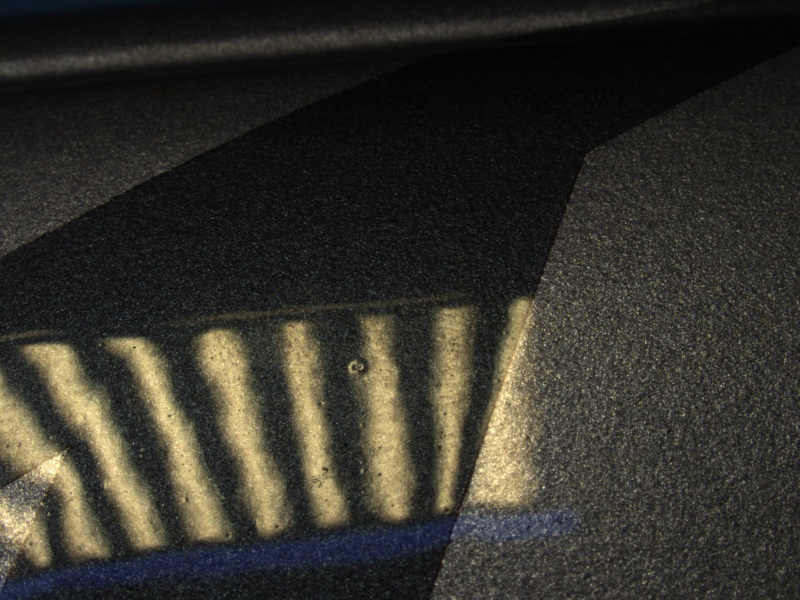bad: (342, 351, 376, 384)
